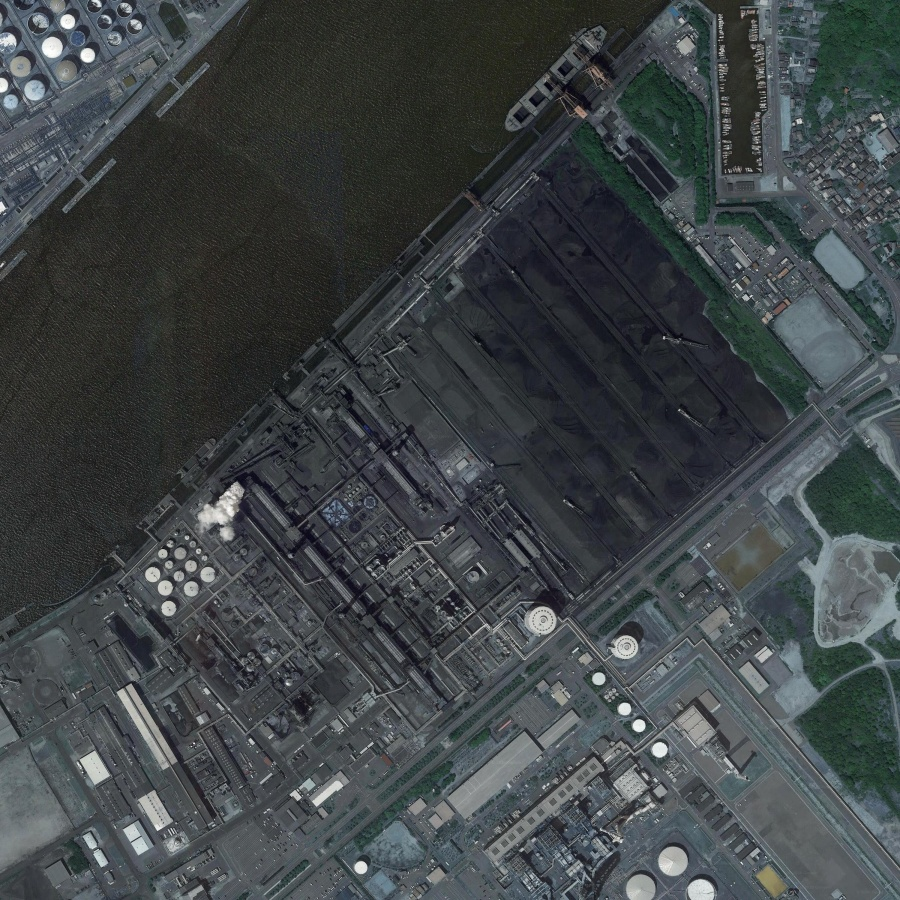PowerPlant: (416, 153, 802, 547)
